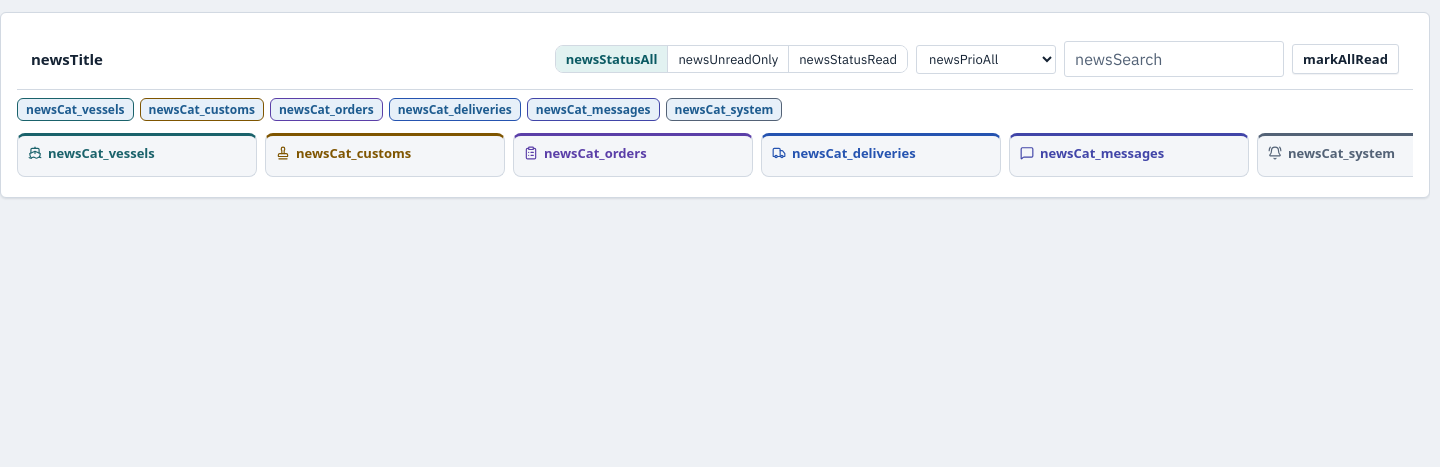
Test case: NewsFeed › filtry: status i ważność idą do API, chip kategorii ukrywa kolumnę
Expected: the element with test id "news-col-vessels" is shown, [17, 133, 257, 177]
Click the button "newsStatusRead" at (848, 59), box [788, 46, 907, 72]
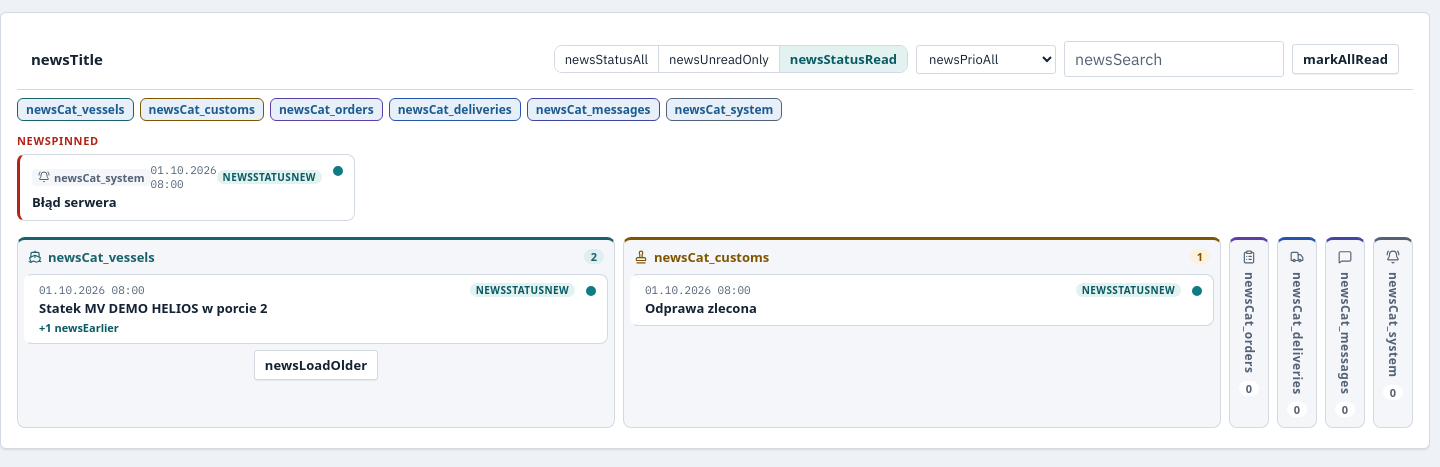
Select "newsPrio_urgent" in the dropdown named "newsFilterPriority" at (986, 59), box [916, 44, 1056, 74]
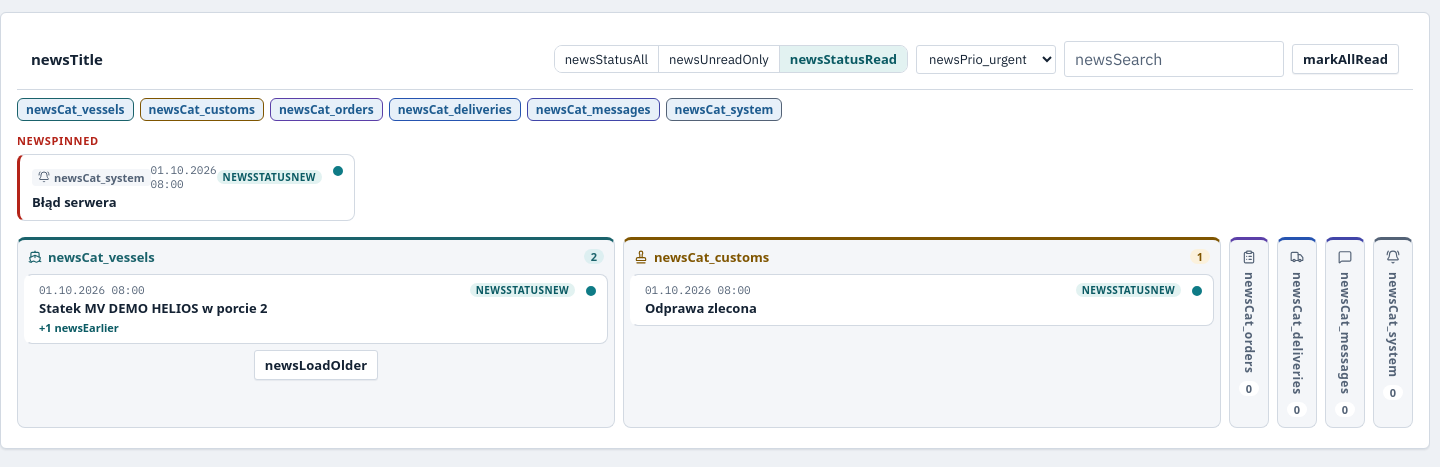
Click the button "newsCat_customs" at (202, 110), box [140, 98, 264, 121]
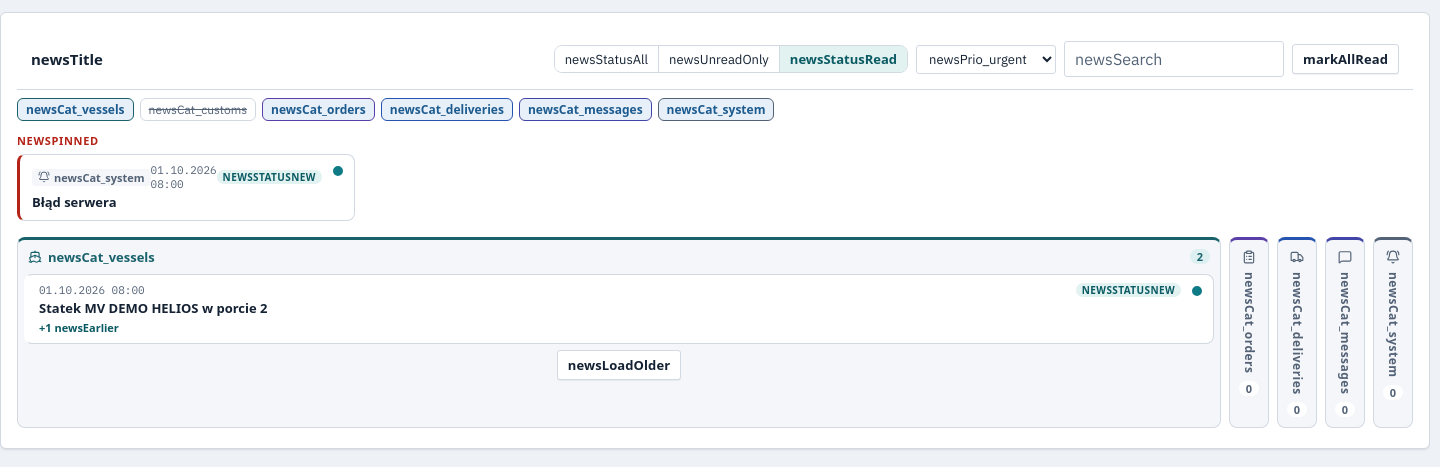
Expected: the element with test id "news-col-customs" is gone
